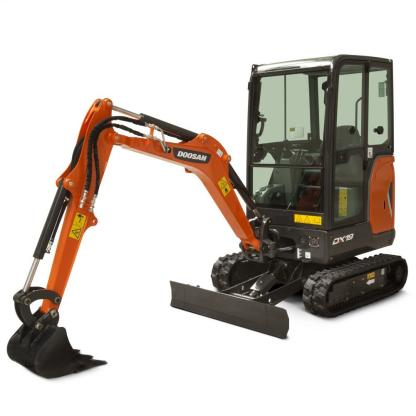excavator: (11, 21, 410, 388)
